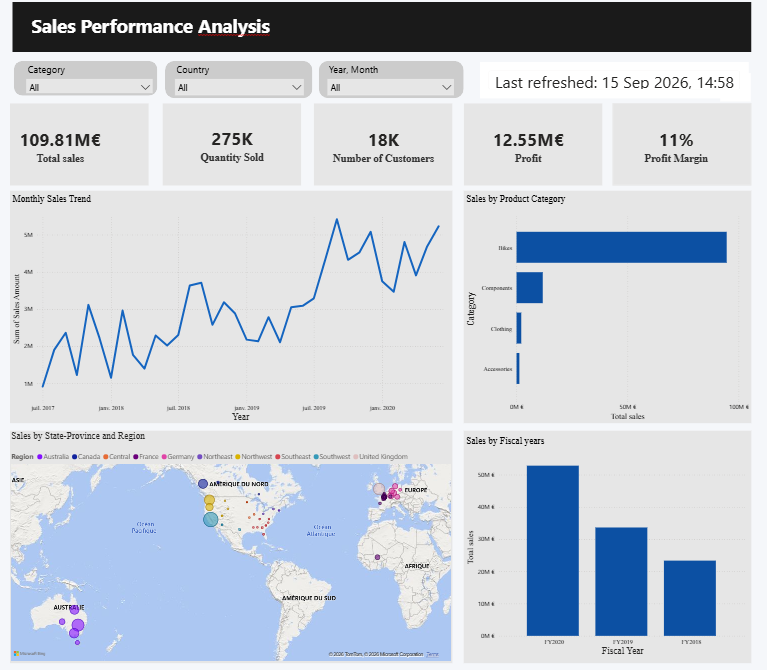

Layout of this report page (visuals, bound fields, positions):
{"tool":"powerbi","page":{"name":"Sales Performance Analysis","canvas":[1550,1350],"ordinal":0},"visuals":[{"type":"shape","box":[325,212.5,277.5,165],"z":0},{"type":"shape","box":[627.5,212.5,277.5,165],"z":1000},{"type":"shape","box":[1225,212.5,277.5,165],"z":2000},{"type":"shape","box":[927.5,212.5,277.5,165],"z":3000},{"type":"shape","box":[927.5,387.5,575,465],"z":4000},{"type":"cardVisual","fields":{"Data":["measure.Last Refreshed"]},"box":[960,130,537.5,72.5],"z":5000},{"type":"shape","box":[330,127.5,295,75],"z":6000},{"type":"shape","box":[637.5,127.5,290,75],"z":7000},{"type":"shape","box":[20,212.5,277.5,165],"z":8000},{"type":"shape","box":[927.5,867.5,575,465],"z":9000},{"type":"shape","box":[20,387.5,885,465],"z":10000},{"type":"shape","box":[20,867.5,885,465],"z":11000},{"type":"card","fields":{"Values":["measure.Quantity Sold"]},"box":[307.5,230,314,130],"z":12000},{"type":"card","fields":{"Values":["measure.Profit"]},"box":[917.5,232.5,278.6,127.8],"z":13000},{"type":"shape","box":[25,10,1477.5,100],"z":14000},{"type":"slicer","fields":{"Values":["Date.Date.Variation.Date Hierarchy.Year","Date.Date.Variation.Date Hierarchy.Month"]},"box":[645,127.5,272.5,80],"z":15000},{"type":"textbox","box":[57.5,10,1202.5,100],"z":16000},{"type":"shape","box":[27.5,127.5,287.5,70],"z":17000},{"type":"slicer","fields":{"Values":["SalesTerritory.Country"]},"box":[340,127.5,277.5,80],"z":18000},{"type":"slicer","fields":{"Values":["Product.Category"]},"box":[42.5,127.5,272.5,65],"z":19000},{"type":"card","fields":{"Values":["measure.Total sales"]},"box":[20,232.5,201.1,127.2],"z":24000},{"type":"card","fields":{"Values":["measure.Number of Customers"]},"box":[645,232.5,243.6,126.9],"z":25000},{"type":"card","fields":{"Values":["measure.Profit Margin"]},"box":[1260,232.5,185.4,127.2],"z":25001},{"type":"lineChart","title":"Monthly Sales Trend","fields":{"Category":["Date.Date.Variation.Date Hierarchy.Year","Date.Date.Variation.Date Hierarchy.Quarter","Date.Date.Variation.Date Hierarchy.Month","Date.Date.Variation.Date Hierarchy.Day"],"Y":["Sum(Sales.Sales Amount)"]},"box":[20,392.5,887.5,462.5],"z":25002},{"type":"map","title":"Sales by State-Province and Region","fields":{"Category":["Customer.State-Province"],"Series":["SalesTerritory.Region"],"Size":["measure.Profit"]},"box":[17.5,867.5,890,465],"z":25003},{"type":"barChart","title":"Sales by Product Category","fields":{"Y":["measure.Total sales"],"Category":["Product.Category"]},"box":[927.5,392.5,575,460],"z":25004},{"type":"clusteredColumnChart","title":"Sales by Fiscal years","fields":{"Y":["measure.Total sales"],"Category":["Date.Fiscal Year"]},"box":[927.5,877.5,570,445],"z":25005}]}

Visuals, with their boxes in screenshot pixels (x1, y1, x2, y2), scaled from the page's 1550x1350 canvas onto the 767x670 screenshot:
shape: 161,105,298,187
shape: 311,105,448,187
shape: 606,105,743,187
shape: 459,105,596,187
shape: 459,192,743,423
cardVisual - measure.Last Refreshed: 475,65,741,100
shape: 163,63,309,100
shape: 315,63,459,100
shape: 10,105,147,187
shape: 459,431,743,661
shape: 10,192,448,423
shape: 10,431,448,661
card - measure.Quantity Sold: 152,114,308,179
card - measure.Profit: 454,115,592,179
shape: 12,5,743,55
slicer - Date.Date.Variation.Date Hierarchy.Year x Date.Date.Variation.Date Hierarchy.Month: 319,63,454,103
textbox: 28,5,623,55
shape: 14,63,156,98
slicer - SalesTerritory.Country: 168,63,306,103
slicer - Product.Category: 21,63,156,96
card - measure.Total sales: 10,115,109,179
card - measure.Number of Customers: 319,115,440,178
card - measure.Profit Margin: 623,115,715,179
"Monthly Sales Trend" lineChart: 10,195,449,424
"Sales by State-Province and Region" map: 9,431,449,661
"Sales by Product Category" barChart: 459,195,743,423
"Sales by Fiscal years" clusteredColumnChart: 459,436,741,656
